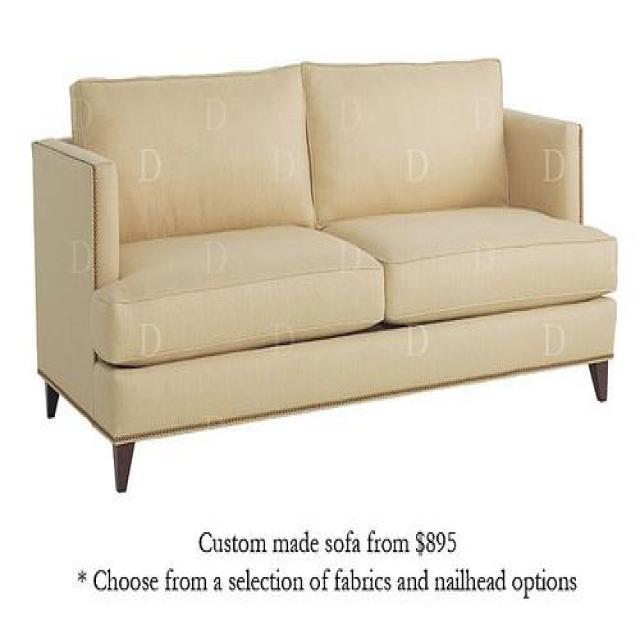sofa: (30, 53, 619, 494)
